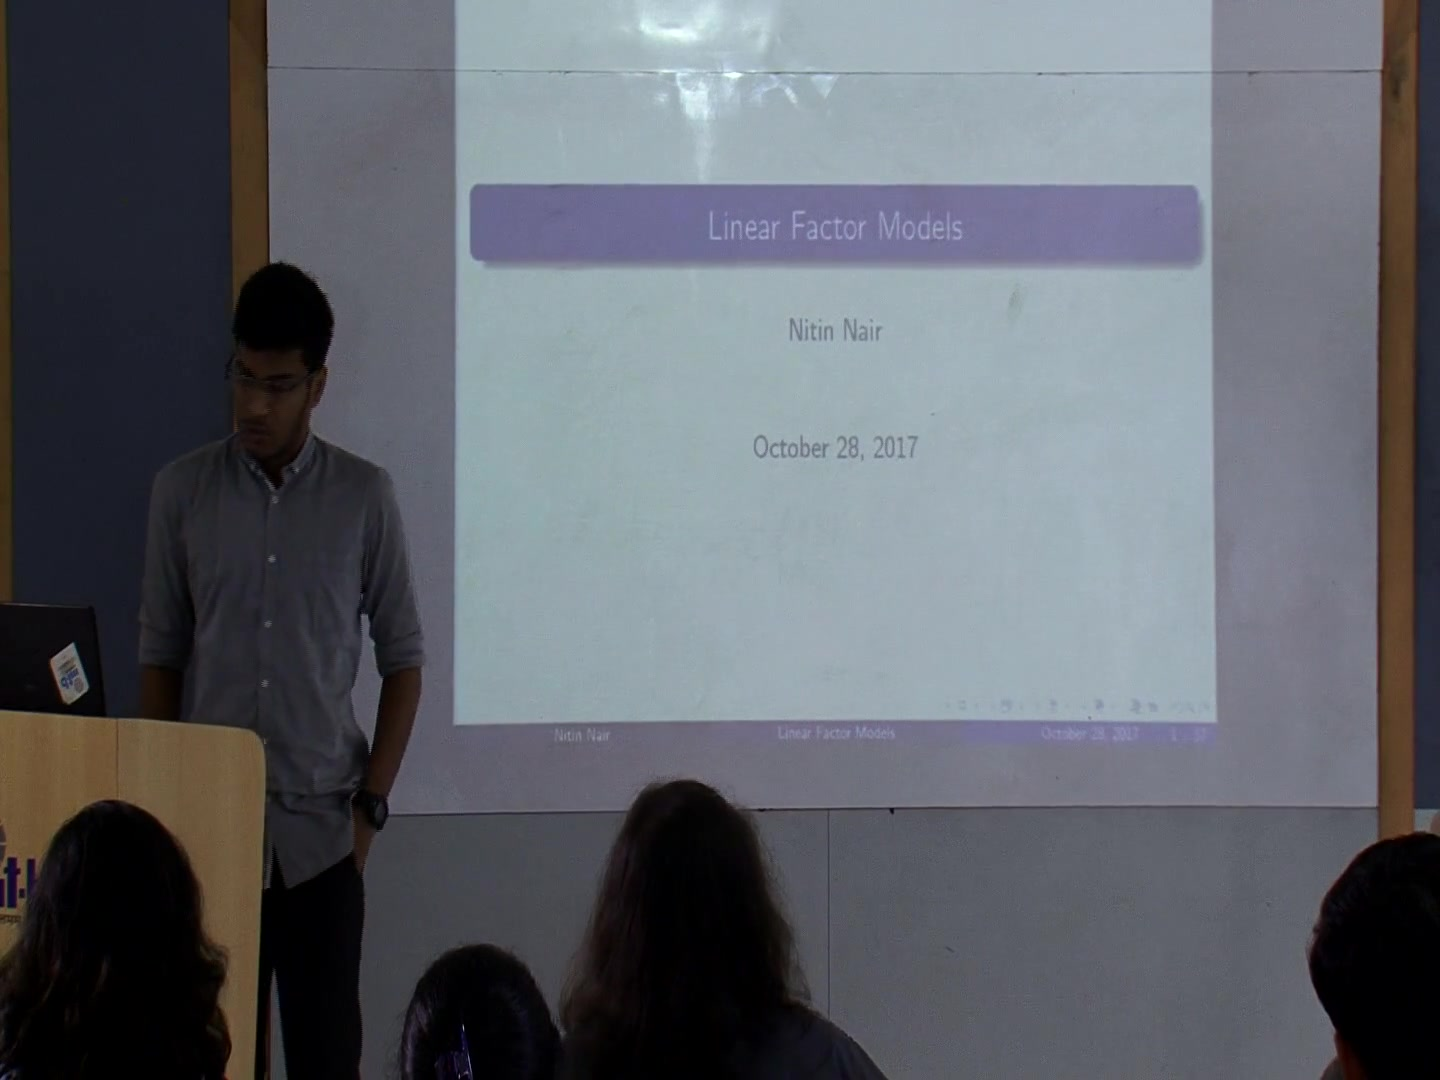slide: (454, 1, 1214, 746)
